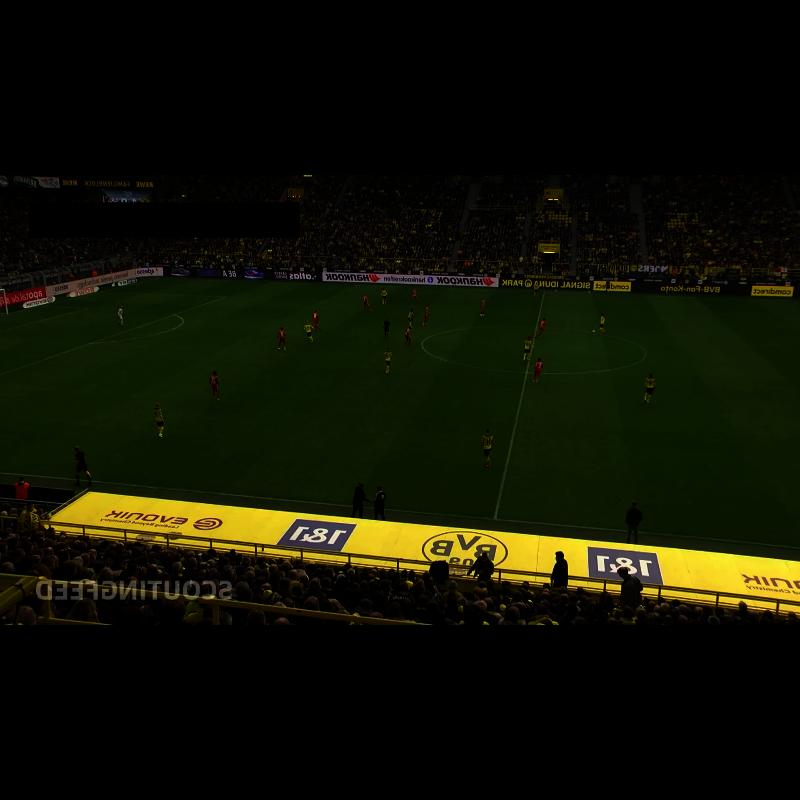cross_recipient_zone: (0, 292, 226, 375)
crossing_player_zone: (101, 278, 331, 299), (0, 384, 95, 433)
pitch: (0, 278, 800, 548)
